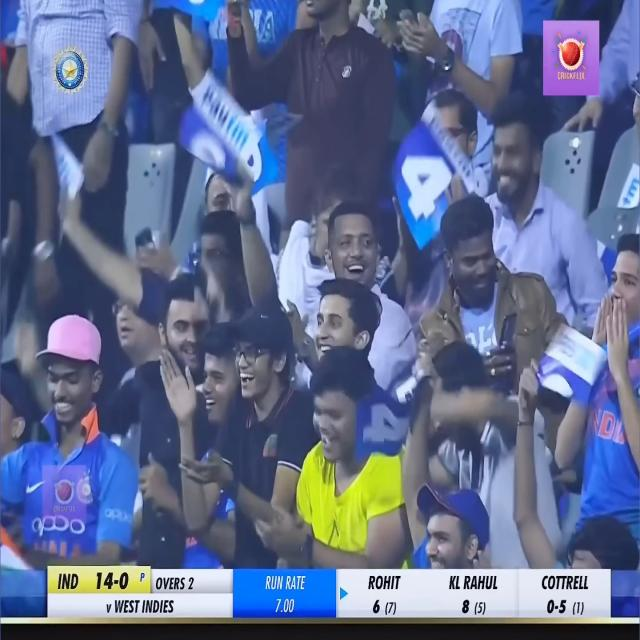fully_visible: (194, 72, 264, 166)
partially_visible: (421, 112, 495, 205), (537, 318, 606, 390), (611, 149, 640, 217)
